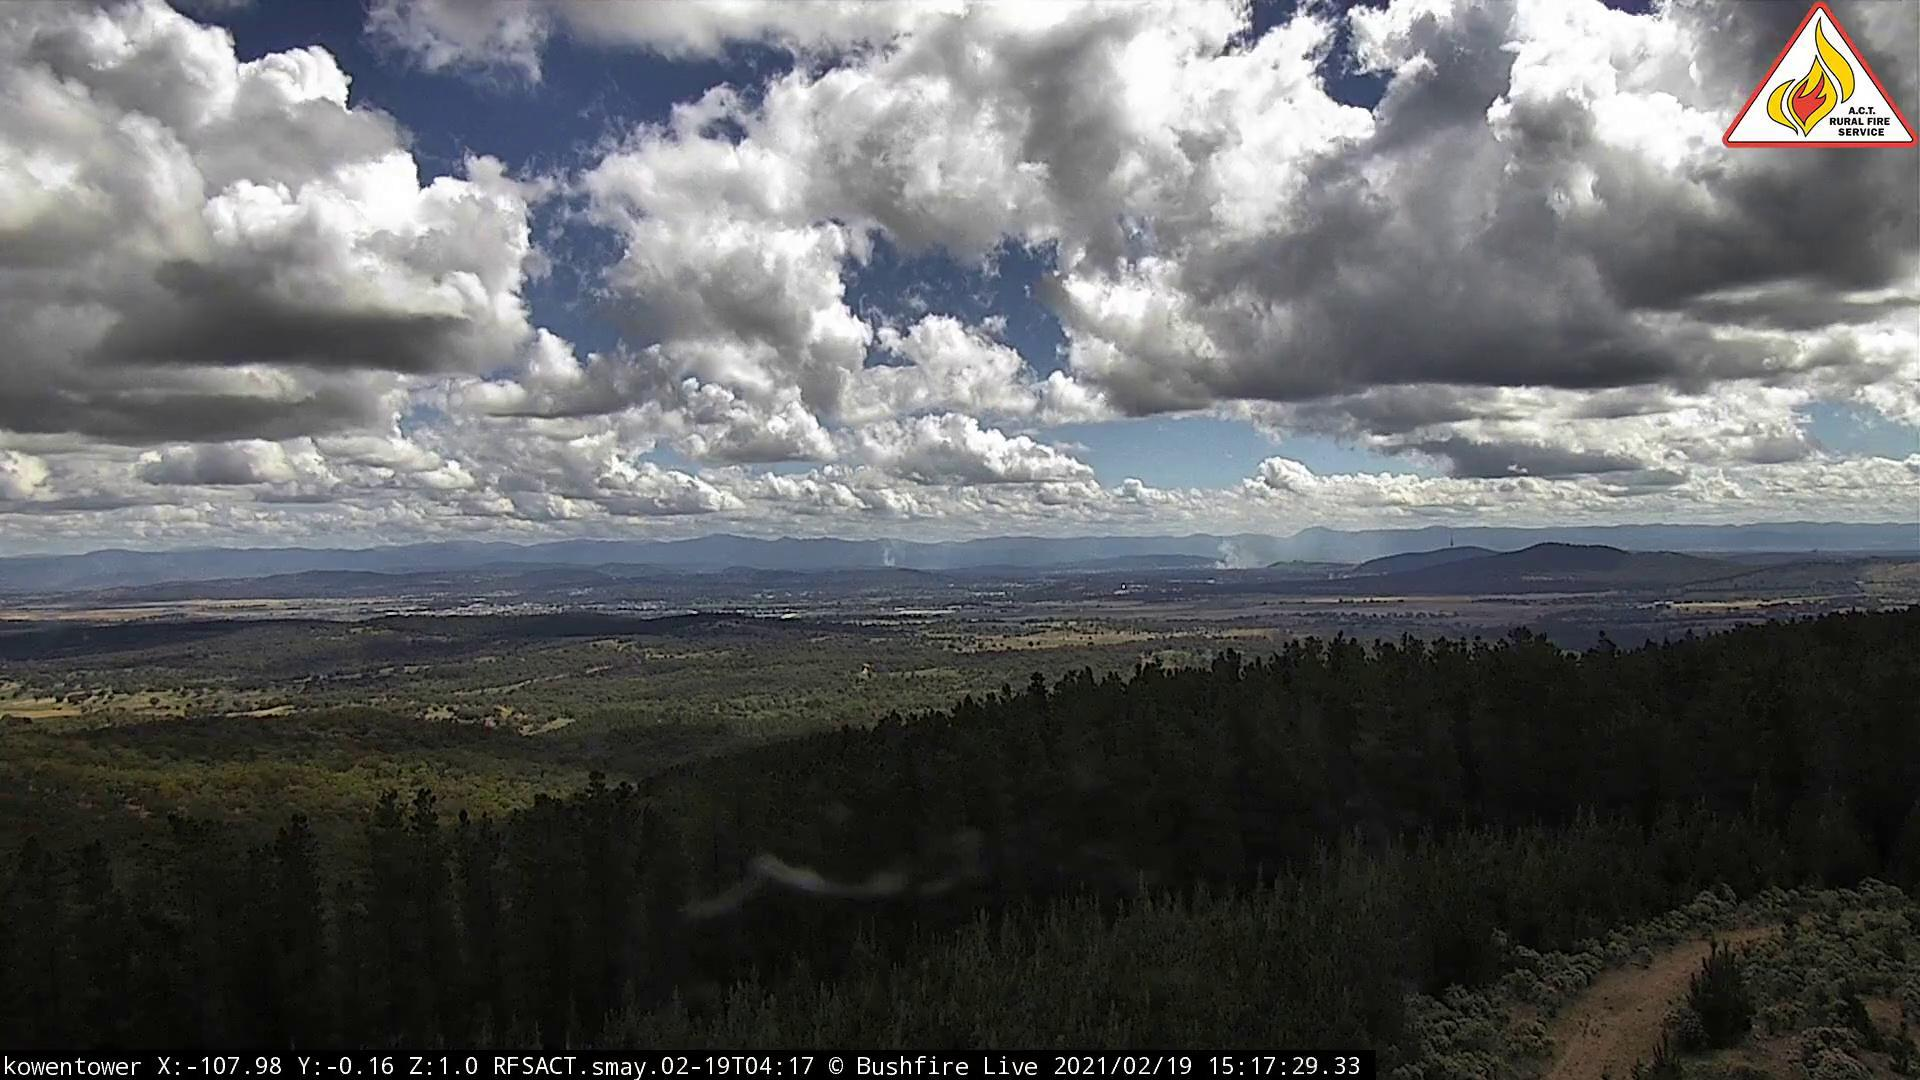Smoke: (1208, 534, 1273, 580), (880, 531, 916, 576)
